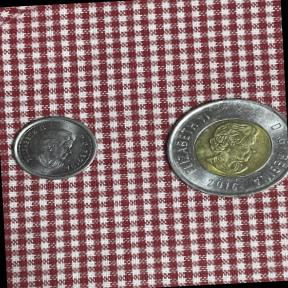Canada-10cent-B: (4, 109, 108, 191)
Canada-2Dollar-B: (150, 87, 288, 214)
